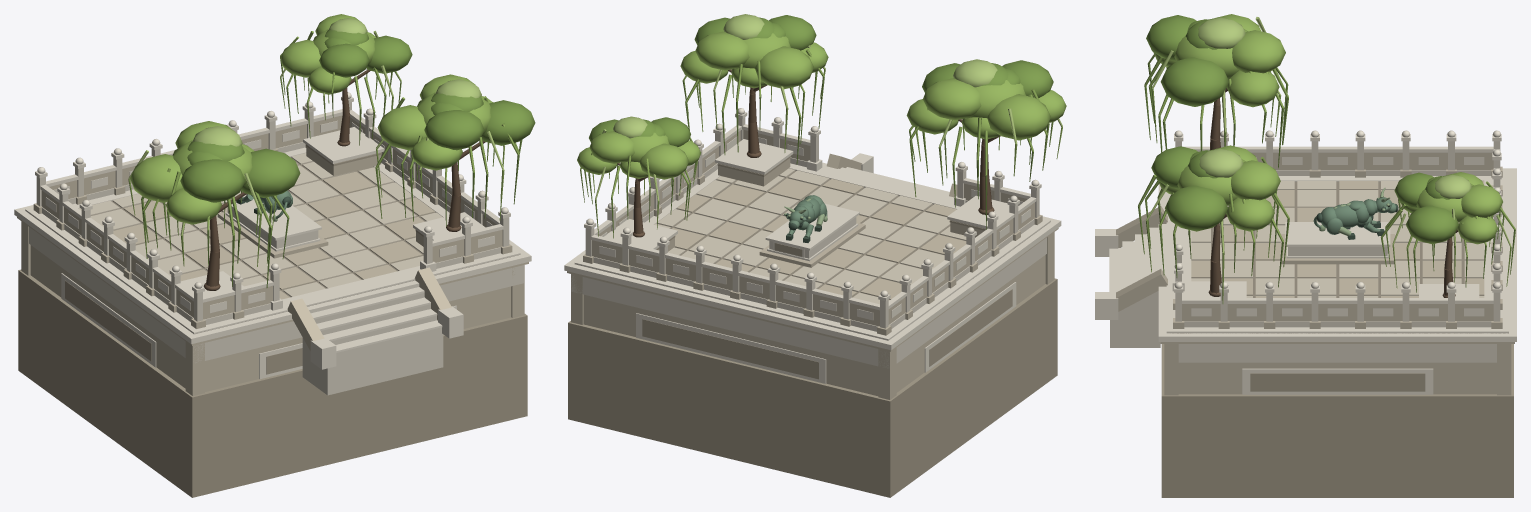
3 renders of one model, left to right at view 1: azimuth 30°, elevation 25°; view 2: azimuth 150°, elevation 25°; view 3: azimuth 270°, elevation 25°, orthographic. The views are drawn at different scales.
Bounding box in the file's own units: 0.1064 × 0.0892 × 0.101.
